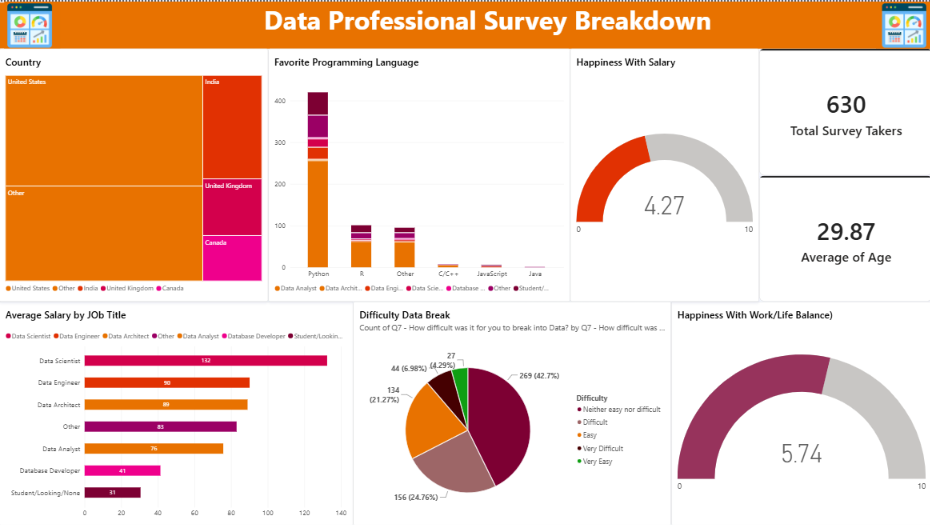

The page's visual inventory and layout, read from the dashboard file:
{"tool":"powerbi","page":{"name":"Page 1","canvas":[1920,1080],"ordinal":0},"visuals":[{"type":"textbox","box":[10.3,0,1910.1,96.7],"z":0},{"type":"image","box":[0,2.1,125.6,94.7],"z":1000},{"type":"image","box":[1805.2,2.1,115.3,94.7],"z":2000},{"type":"barChart","title":"Average Salary by JOb Title","fields":{"Category":["Data Professional Survey.Q1 - Which Title Best Fits your Current Role?.1"],"Series":["Data Professional Survey.Q1 - Which Title Best Fits your Current Role?.1"],"Y":["Avg(Data Professional Survey.Average Salary)"]},"box":[0,617.5,728.6,463.1],"z":3000},{"type":"cardVisual","fields":{"Data":["Count(Data Professional Survey.Unique ID)"]},"box":[1564.3,96.7,356.1,261.4],"z":4000},{"type":"cardVisual","fields":{"Data":["Avg(Data Professional Survey.Q10 - Current Age)"]},"box":[1564.3,358.1,356.1,259.3],"z":5000},{"type":"columnChart","title":"Favorite Programming Language","fields":{"Category":["Data Professional Survey.Q5 - Favorite Programming Language.1"],"Series":["Data Professional Survey.Q1 - Which Title Best Fits your Current Role?.1"],"Y":["CountNonNull(Data Professional Survey.Unique ID)"]},"box":[553.7,96.7,621.6,520.8],"z":6000},{"type":"treemap","title":"Country ","fields":{"Group":["Data Professional Survey.Q11 - Which Country do you live in?.1"],"Values":["CountNonNull(Data Professional Survey.Q11 - Which Country do you live in?.1)"]},"box":[0,96.7,553.7,520.8],"z":7000},{"type":"gauge","title":"Happiness With Work/Life Balance)","fields":{"MaxValue":["Max(Data Professional Survey.Q6 - How Happy are you in your Current Position with the following? (Work/Life Balance))2"],"MinValue":["Min(Data Professional Survey.Q6 - How Happy are you in your Current Position with the following? (Work/Life Balance))1"],"Y":["Avg(Data Professional Survey.Q6 - How Happy are you in your Current Position with the following? (Work/Life Balance))"]},"box":[1383.2,617.5,537.2,463.1],"z":7001},{"type":"gauge","title":"Happiness With Salary","fields":{"MaxValue":["Max(Data Professional Survey.Q6 - How Happy are you in your Current Position with the following? (Salary))"],"MinValue":["Min(Data Professional Survey.Q6 - How Happy are you in your Current Position with the following? (Salary))"],"Y":["Avg(Data Professional Survey.Q6 - How Happy are you in your Current Position with the following? (Salary))"]},"box":[1175.3,96.7,389,520.8],"z":7002},{"type":"pieChart","title":"Difficulty Data Break","fields":{"Category":["Data Professional Survey.Q7 - How difficult was it for you to break into Data?"],"Y":["CountNonNull(Data Professional Survey.Q7 - How difficult was it for you to break into Data?)"]},"box":[728.6,617.5,654.5,463.1],"z":7003}]}

Visuals, with their boxes in screenshot pixels (x1, y1, x2, y2), scaled from the page's 1920x1080 canvas onto the 930x525 screenshot:
textbox: crop(5, 0, 929, 47)
image: crop(0, 1, 61, 47)
image: crop(874, 1, 929, 47)
"Average Salary by JOb Title" barChart: crop(0, 300, 353, 524)
cardVisual - Count(Data Professional Survey.Unique ID): crop(758, 47, 929, 174)
cardVisual - Avg(Data Professional Survey.Q10 - Current Age): crop(758, 174, 929, 300)
"Favorite Programming Language" columnChart: crop(268, 47, 569, 300)
"Country " treemap: crop(0, 47, 268, 300)
"Happiness With Work/Life Balance)" gauge: crop(670, 300, 929, 524)
"Happiness With Salary" gauge: crop(569, 47, 758, 300)
"Difficulty Data Break" pieChart: crop(353, 300, 670, 524)
